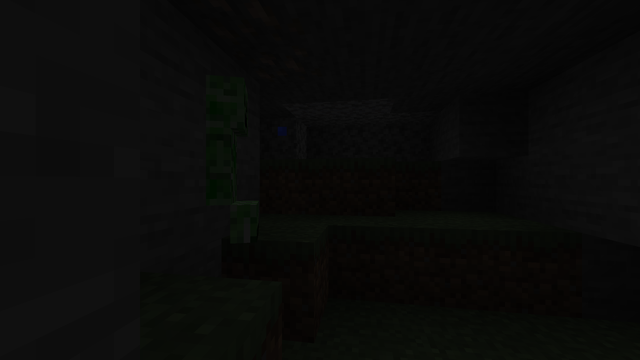creepers: (204, 63, 259, 247)
